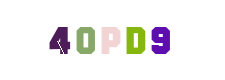4: (20, 0, 100, 80)
9: (121, 0, 201, 80)
D: (95, 0, 175, 80)
O: (48, 0, 128, 80)
P: (72, 0, 152, 80)
